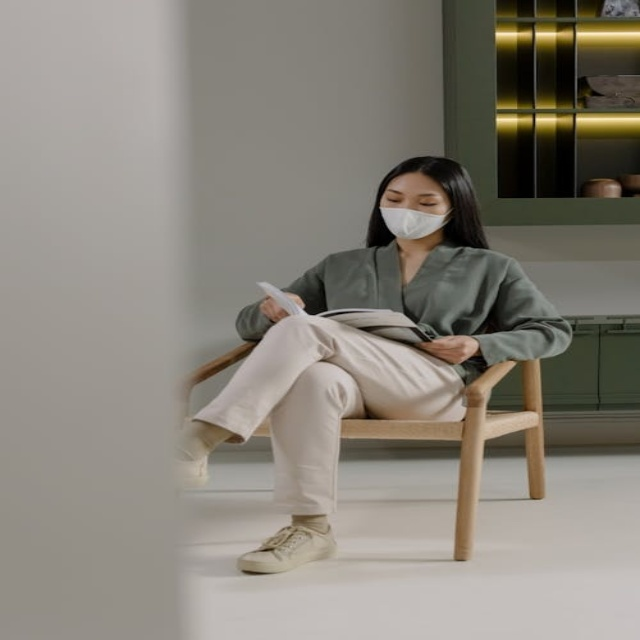Mascara: (377, 206, 452, 239)
Sin_gafas: (380, 189, 447, 212)
Sin_guantes: (420, 329, 476, 362), (258, 291, 302, 323)
